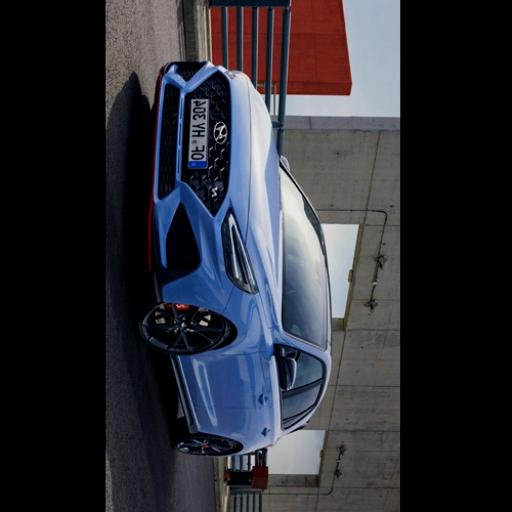hatchback: (134, 62, 331, 456)
